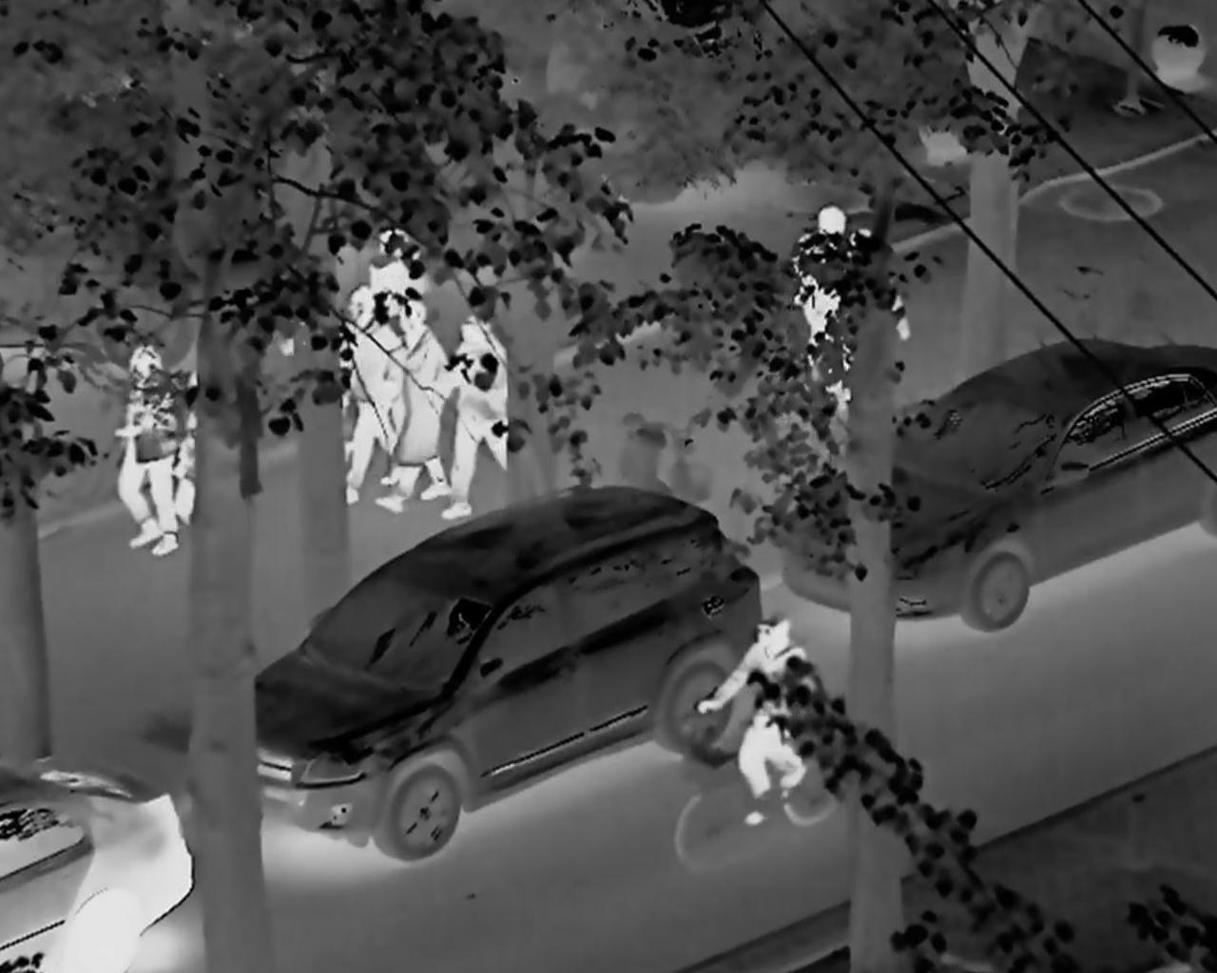person: (673, 604, 846, 837), (94, 313, 201, 567), (765, 206, 878, 388), (446, 299, 523, 524), (325, 278, 396, 506), (384, 289, 457, 502)
